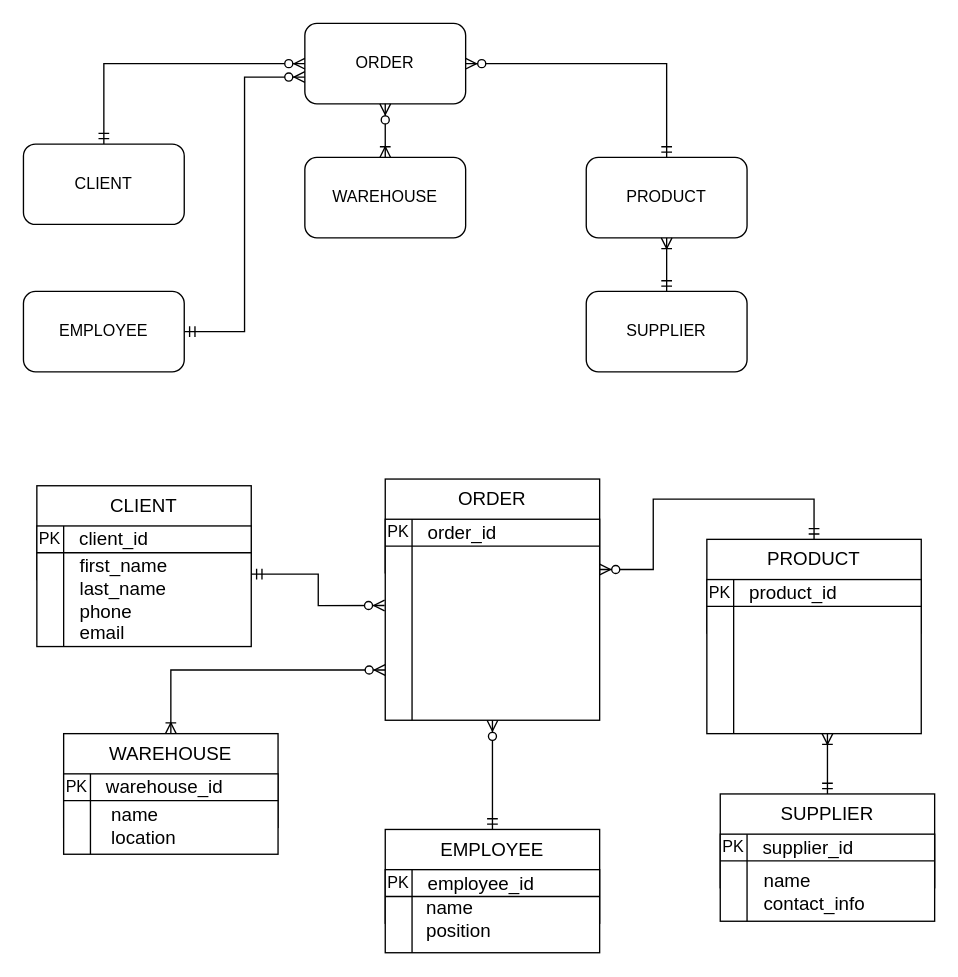
Image size: 958x977. Some labels were removed from this diagram. Here are the shapes that lost their labels. From the top down, the centre of each, then its label:
point 492,619: order_date status client_id warehouse_id employee_id product_id quantity
point 813,656: name sku price supplier_id quantity_on_hand
